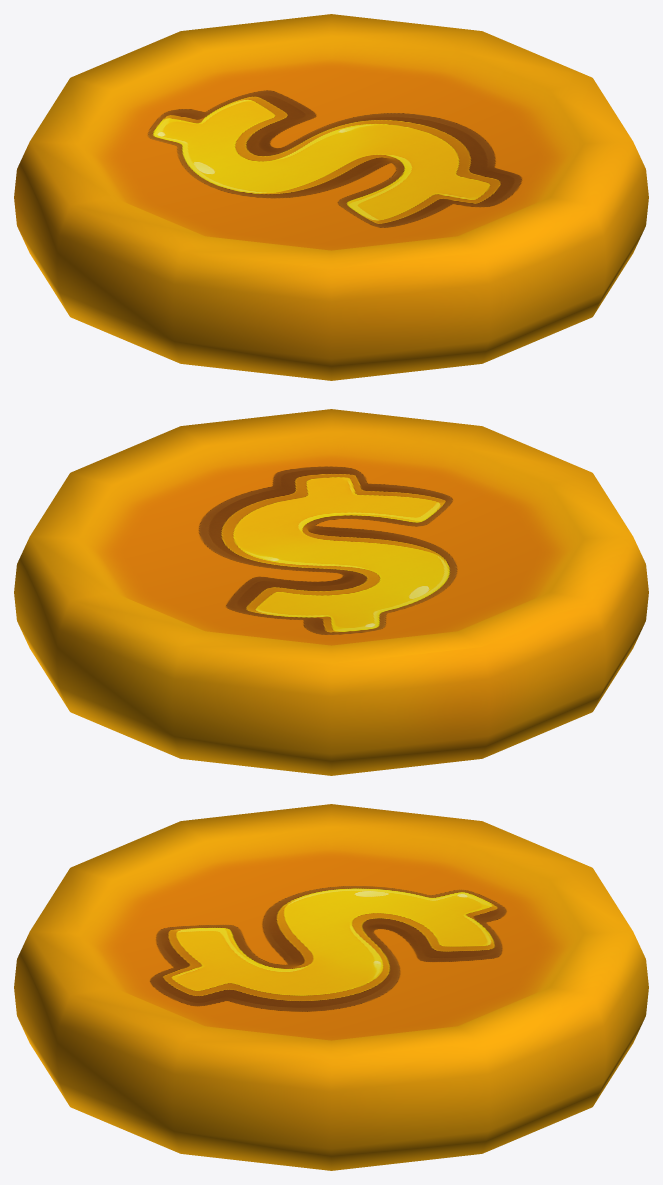
Rendered from Coin.fbx.
The picture shows the model from 3 angles, top to bottom: view 1: azimuth 30°, elevation 25°; view 2: azimuth 150°, elevation 25°; view 3: azimuth 270°, elevation 25°; orthographic projection.
Parts seen in each view (by area): view 1: Coin; view 2: Coin; view 3: Coin.
Boxes of the visible parts, box(x1,y1,x2,y2) form: Coin: box(14, 14, 648, 380); Coin: box(14, 409, 648, 775); Coin: box(14, 804, 648, 1170).
Size of the model in its own units: 110 by 21.46 by 110.
Materials: 1 (1 with a texture image).
